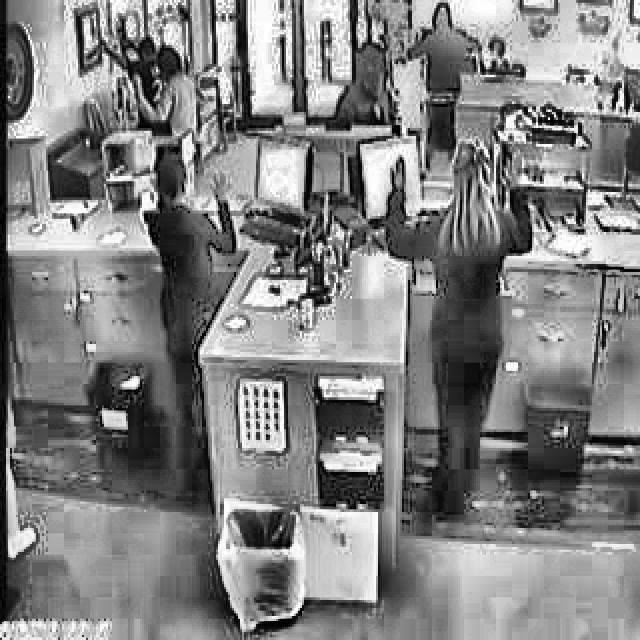robbery: (380, 137, 541, 268), (140, 148, 246, 271), (89, 14, 201, 128), (406, 5, 481, 136), (321, 40, 408, 147)
